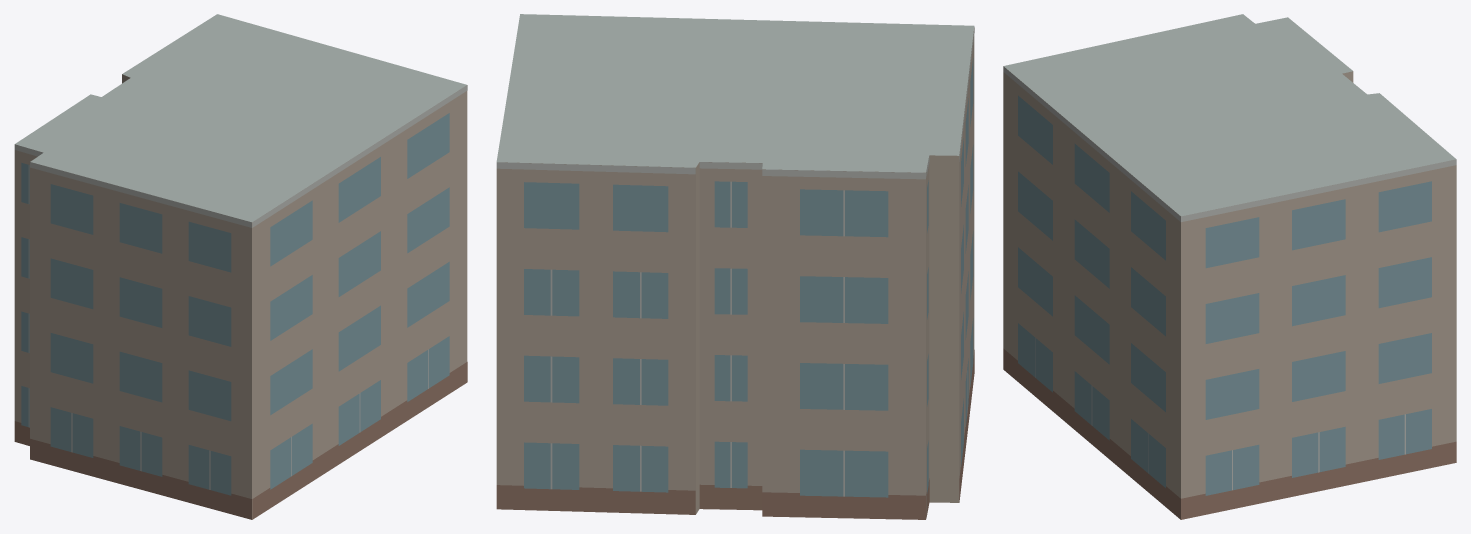
The model's file is survey-upis-32738263.glb.
3 renders of one model, left to right at view 1: azimuth 30°, elevation 25°; view 2: azimuth 150°, elevation 25°; view 3: azimuth 270°, elevation 25°, orthographic. The views are drawn at different scales.
Parts seen in each view (by area): view 1: survey-upis-32738263.tmp; view 2: survey-upis-32738263.tmp; view 3: survey-upis-32738263.tmp.
Boxes of the visible parts, x1,y1,x2,y2 form: survey-upis-32738263.tmp: (14,14,467,519); survey-upis-32738263.tmp: (496,14,974,519); survey-upis-32738263.tmp: (1003,14,1456,519).
Size of the model in its own units: 18.41 by 12.86 by 17.42.
